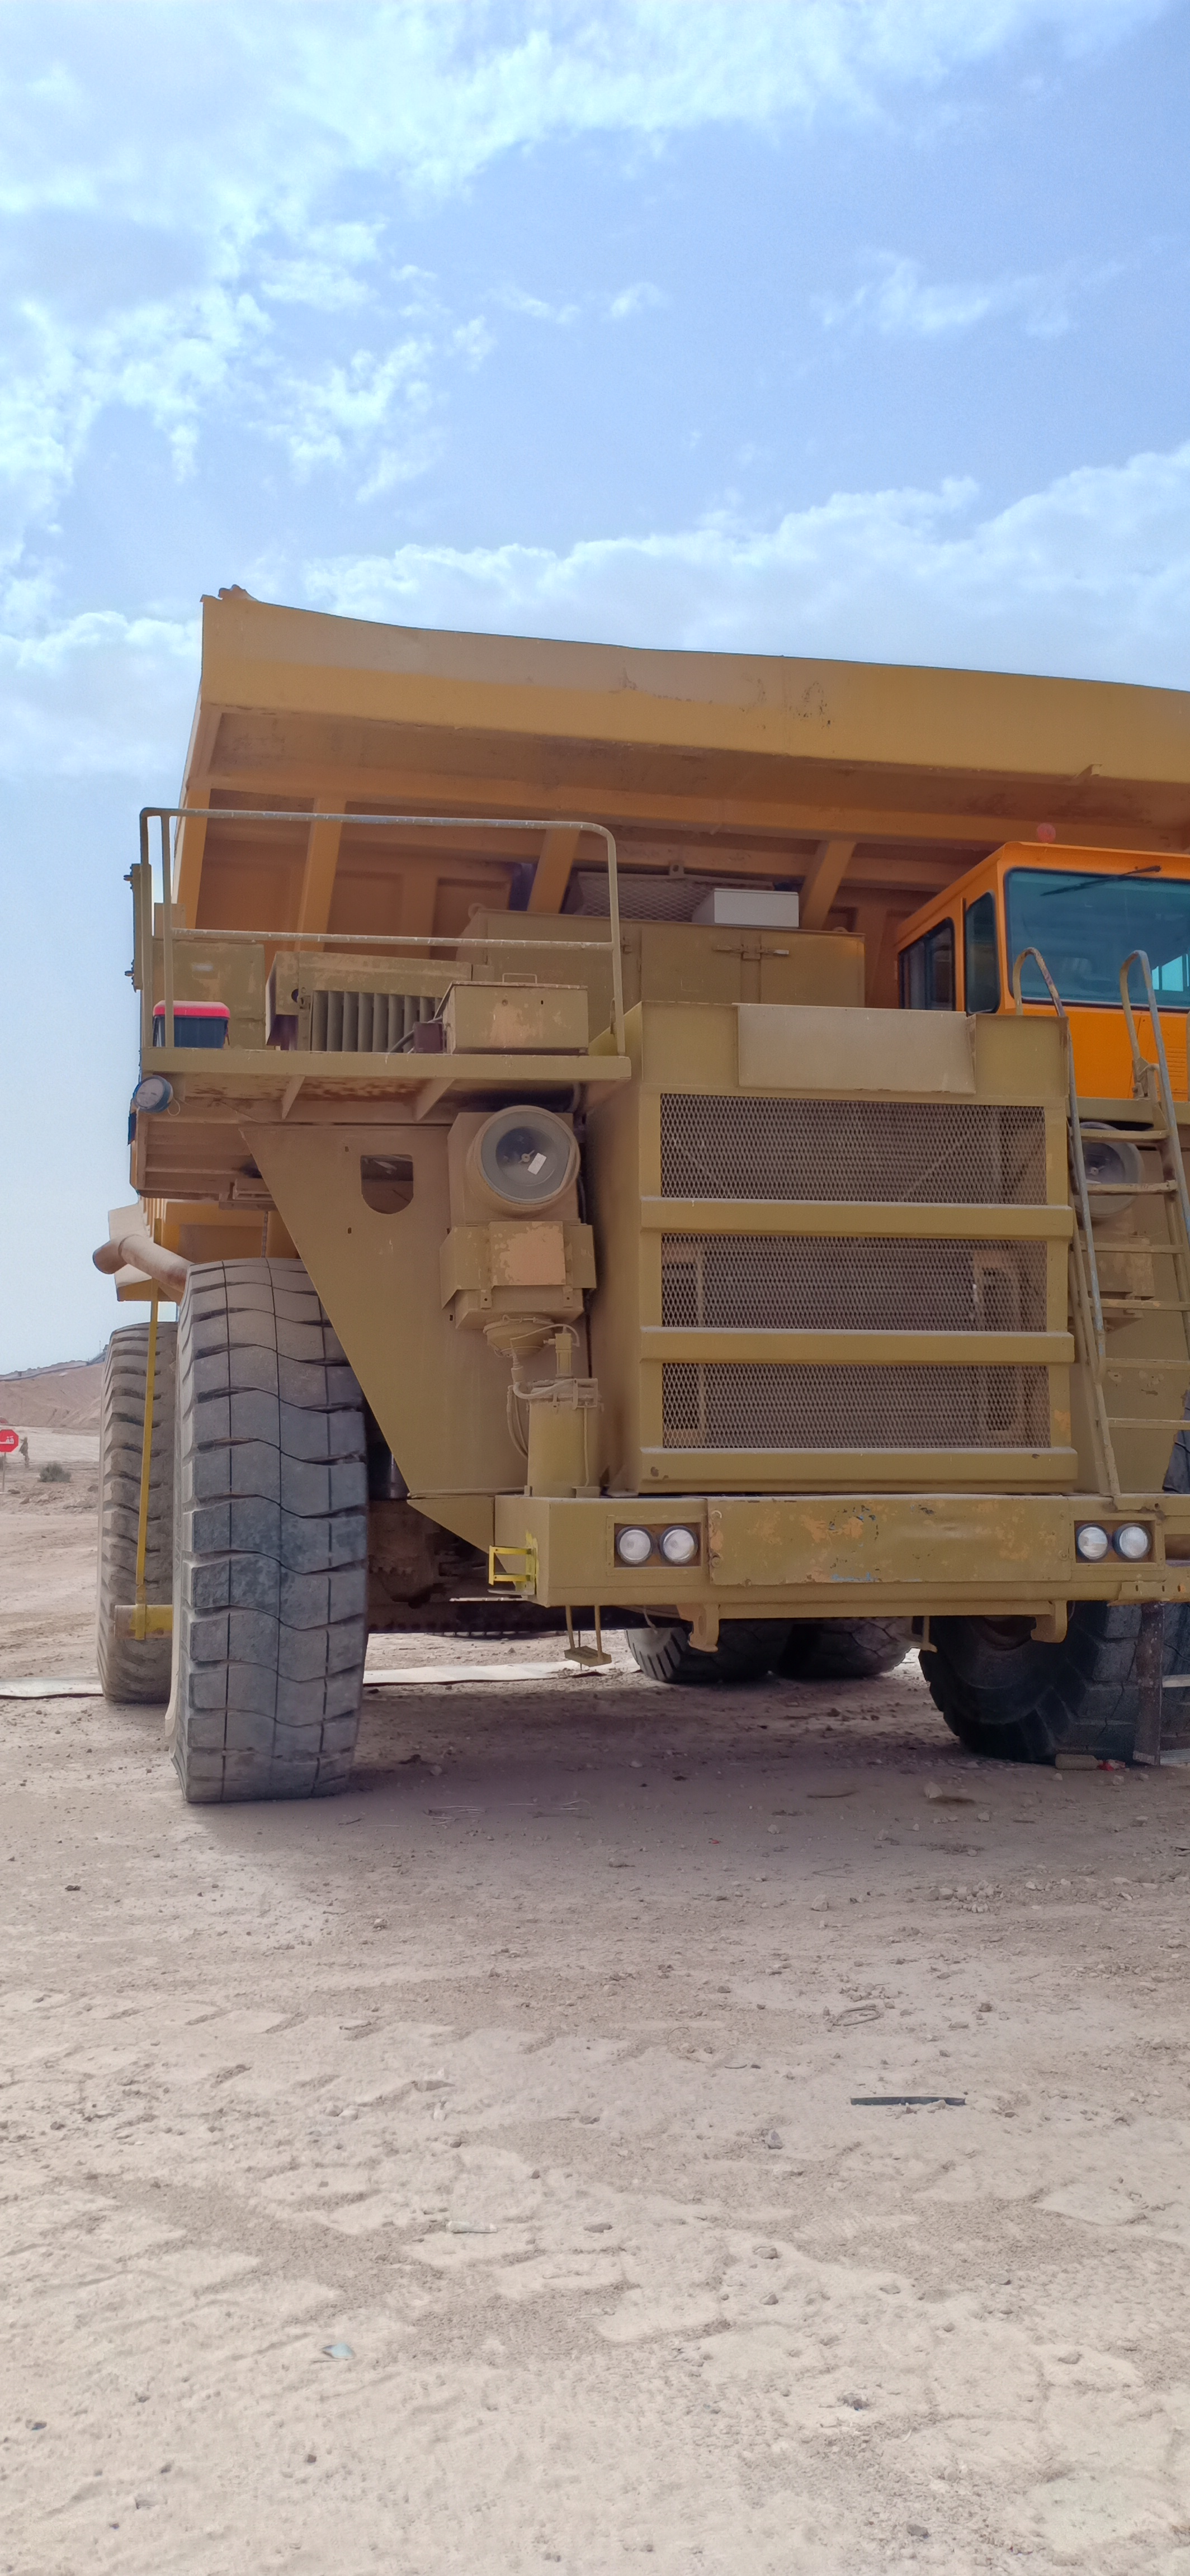camion: (38, 531, 1190, 1861)
